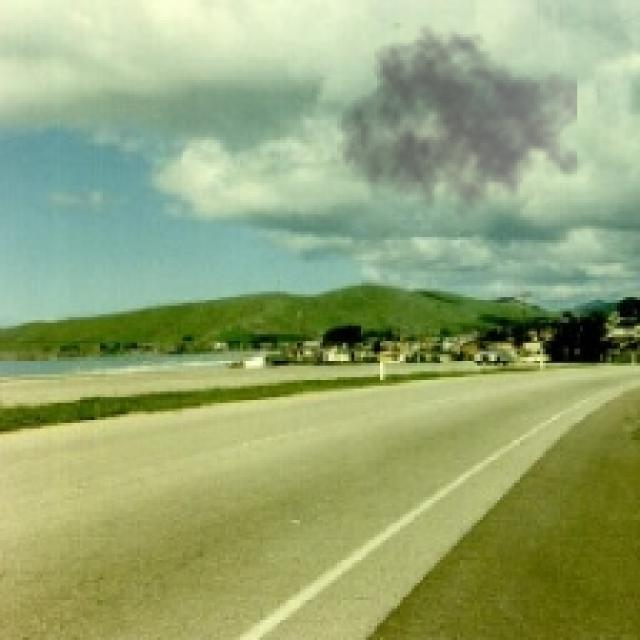Smoke: (337, 22, 577, 232)
